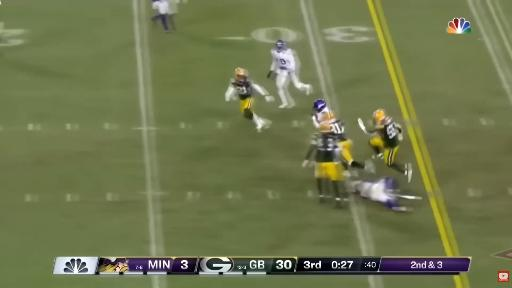Helmet: (383, 177, 398, 190), (313, 99, 326, 112), (373, 109, 385, 122), (323, 112, 337, 123), (235, 68, 248, 79), (319, 123, 331, 133), (276, 40, 286, 50)
Jersey: (316, 109, 347, 141), (356, 179, 394, 202), (312, 133, 338, 162), (376, 117, 400, 147), (271, 49, 295, 71), (231, 79, 253, 100)
Player: (312, 99, 374, 172), (305, 124, 347, 207), (367, 109, 412, 182), (267, 40, 312, 108), (226, 68, 273, 131), (350, 178, 411, 211), (152, 0, 169, 32)
